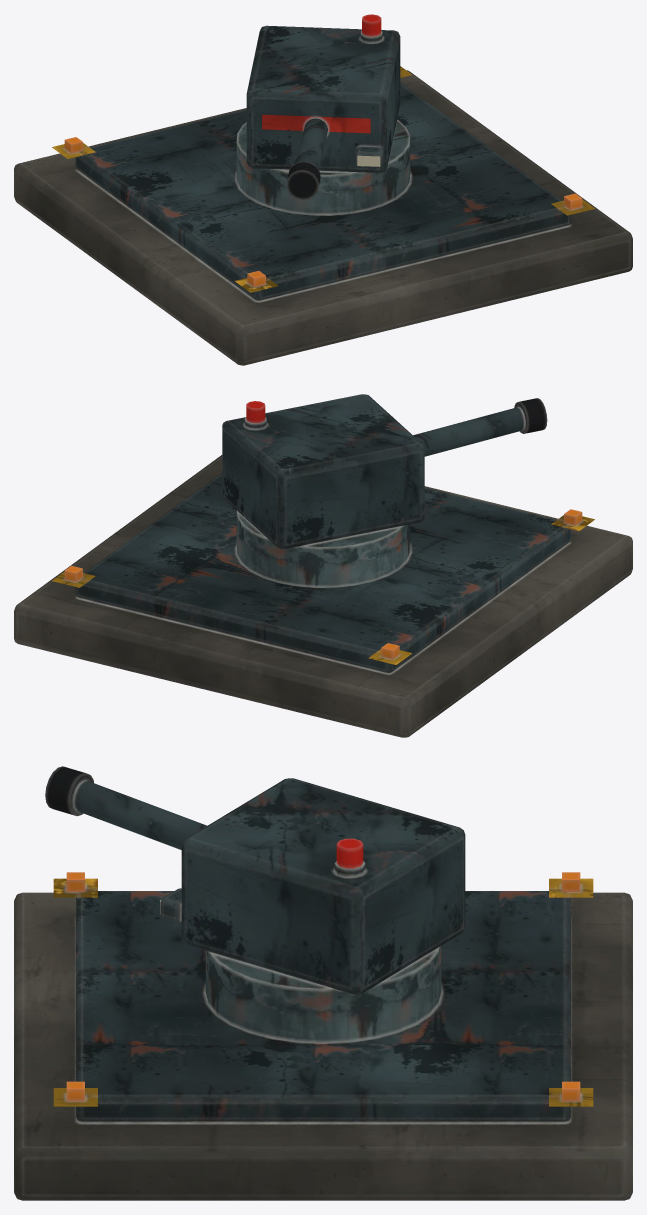
File: medium_cannon.glb
3 renders of one model, top to bottom at view 1: azimuth 30°, elevation 25°; view 2: azimuth 150°, elevation 25°; view 3: azimuth 270°, elevation 25°, orthographic. The views are drawn at different scales.
Visible parts, largest first — view 1: te_medium_cannon; view 2: te_medium_cannon; view 3: te_medium_cannon.
Boxes of the visible parts, box(x1,y1,x2,y2) form: te_medium_cannon: box(14, 14, 632, 365); te_medium_cannon: box(14, 394, 632, 737); te_medium_cannon: box(14, 766, 632, 1200).
Size of the model in its own units: 0.84 by 0.4008 by 0.84.
Materials: 1 (1 with a texture image).
